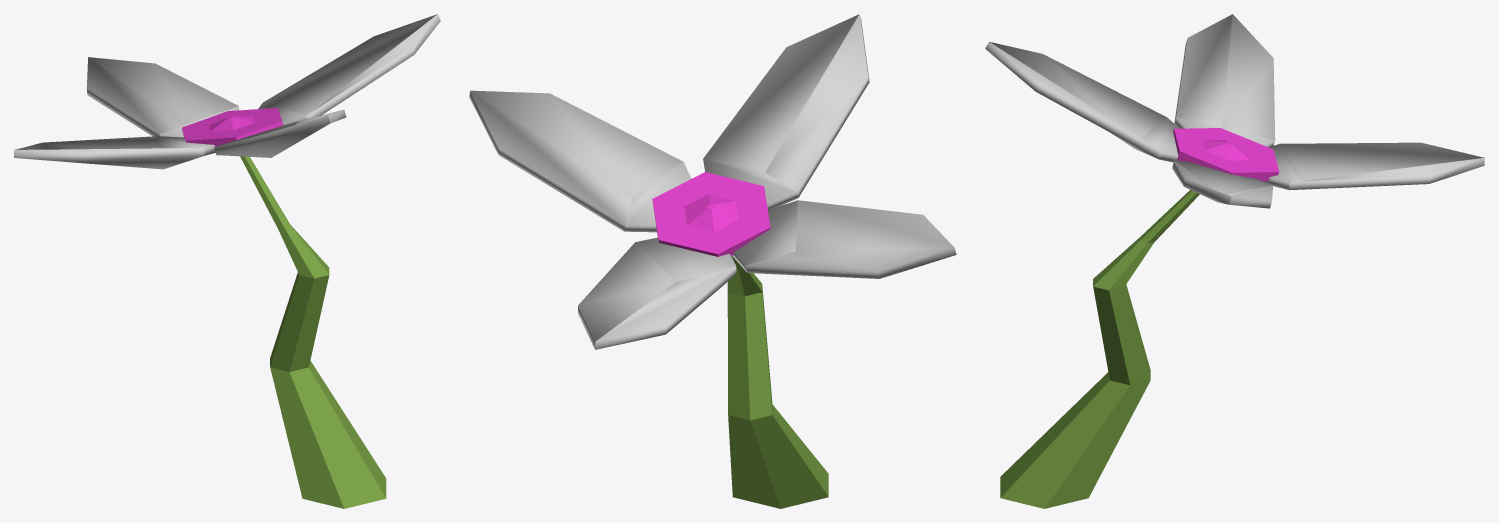
File: flower01.fbx
3 renders of one model, left to right at view 1: azimuth 30°, elevation 25°; view 2: azimuth 150°, elevation 25°; view 3: azimuth 270°, elevation 25°, orthographic. The views are drawn at different scales.
Parts seen in each view (by area): view 1: cicekv3; view 2: cicekv3; view 3: cicekv3.
Boxes of the visible parts, x1,y1,x2,y2 form: cicekv3: (14, 14, 440, 508); cicekv3: (469, 14, 956, 508); cicekv3: (985, 14, 1484, 508).
Size of the model in its own units: 0.0492 by 0.0444 by 0.0474.
